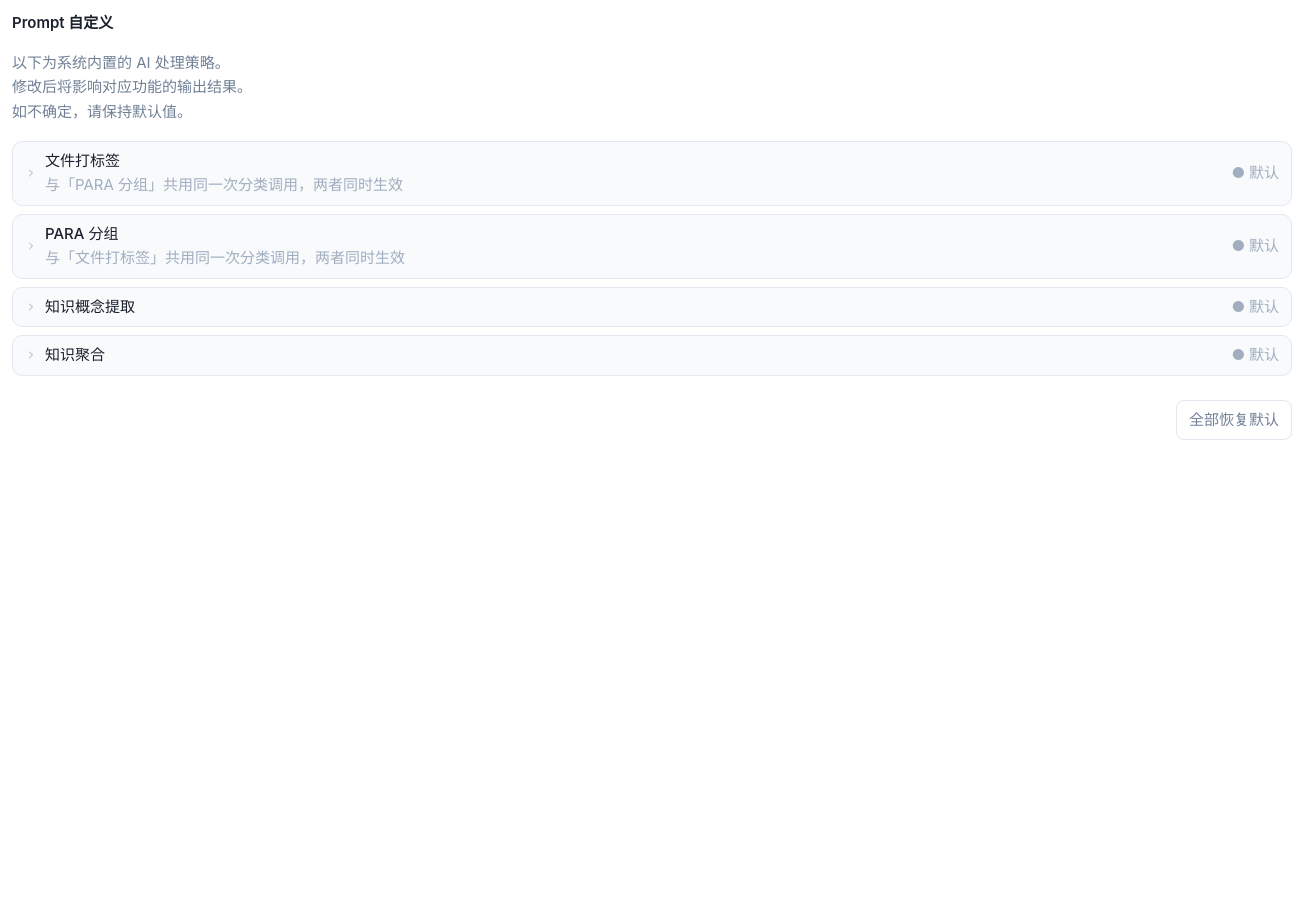
it: AC-5 ④ 占位符 / dirty / 字节状态对保存按钮的影响 › concept module 缺占位符 {content} 时，save 按钮 disabled + 显示警告
Click the button with test id "prompt-toggle-concept": (90, 306) [13, 288, 1291, 326]
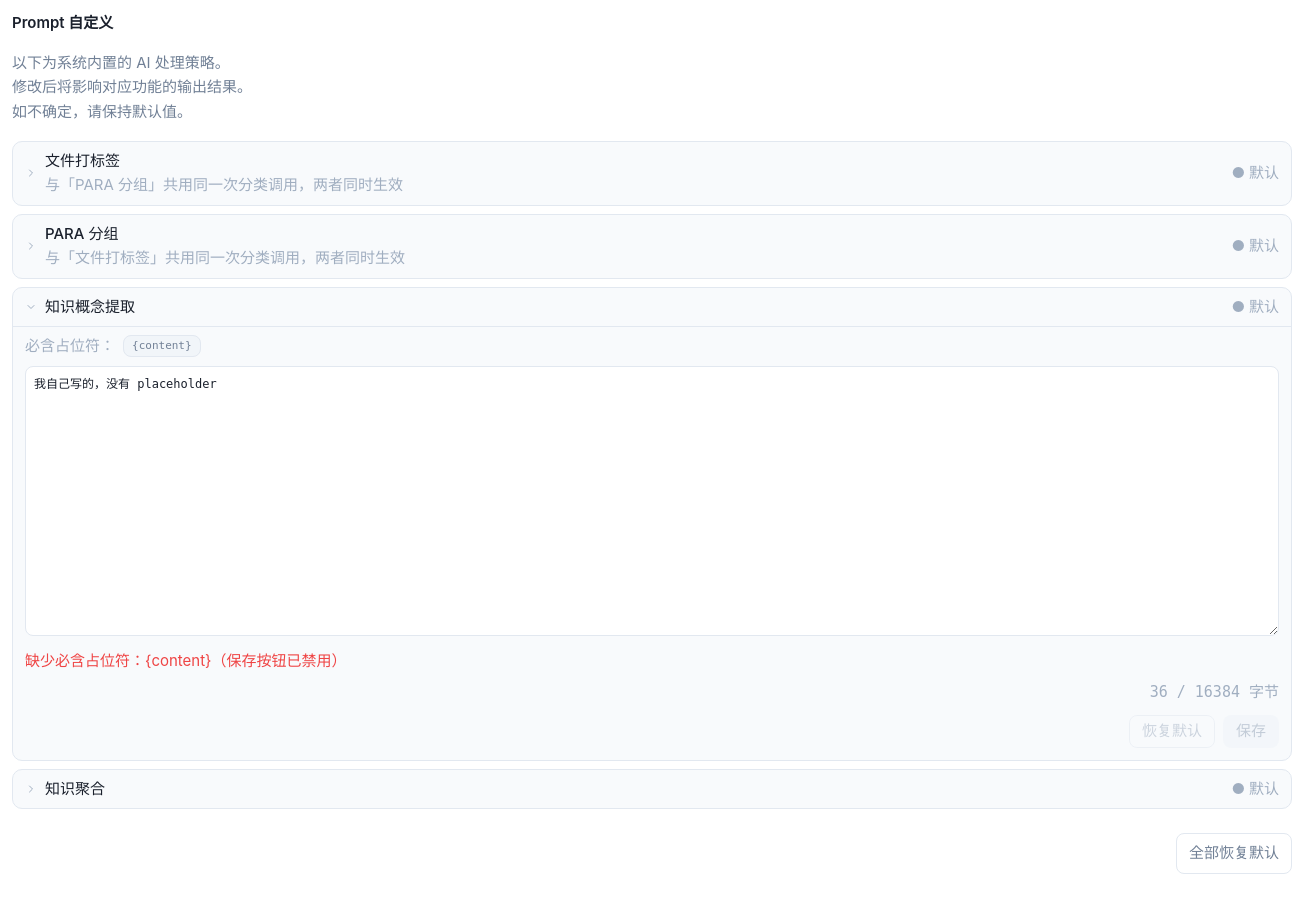
Expected: the button with test id "save-button-concept" is disabled, [1223, 715, 1279, 748]
Expected: the text "缺少必含占位符：{content}（保存按钮已禁用）" is shown, [25, 651, 346, 670]
